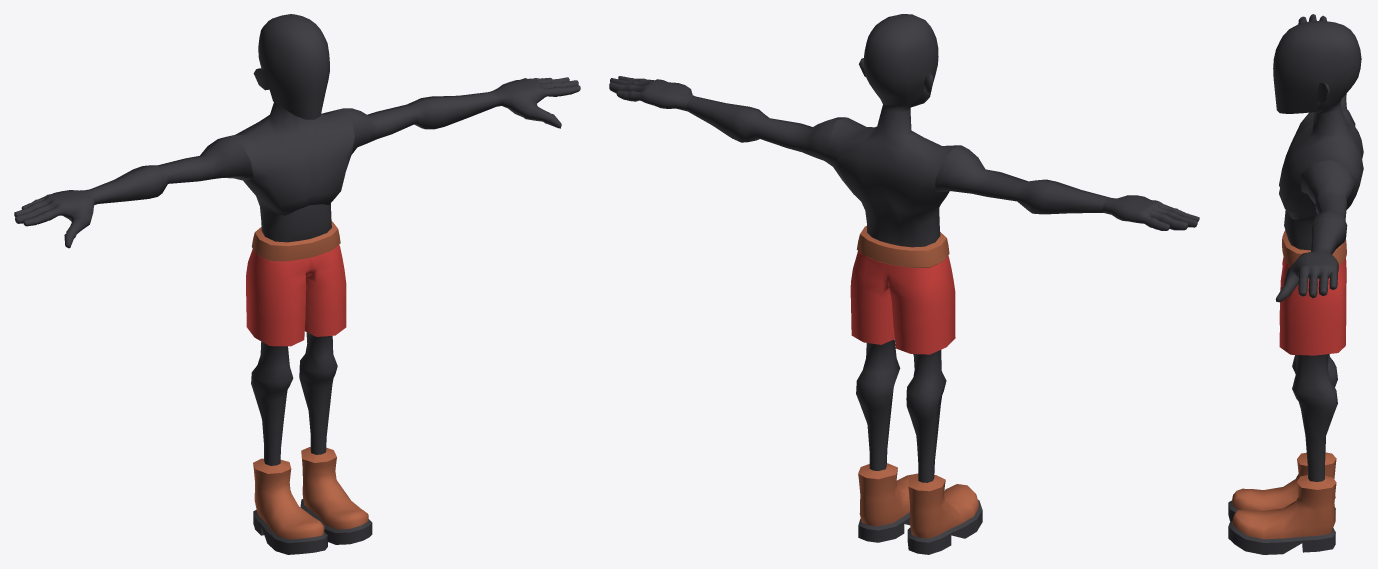
File: Test Man Gradient Map Alt.fbx
3 renders of one model, left to right at view 1: azimuth 30°, elevation 25°; view 2: azimuth 150°, elevation 25°; view 3: azimuth 270°, elevation 25°, orthographic. The views are drawn at different scales.
Parts seen in each view (by area): view 1: Man.008; view 2: Man.008; view 3: Man.008.
Boxes of the visible parts, x1,y1,x2,y2 form: Man.008: (14,14,580,554); Man.008: (609,14,1199,554); Man.008: (1228,14,1363,554).
Bounding box in the file's own units: 14.28 × 12.11 × 2.93.
Materials: 1 (1 with a texture image).
